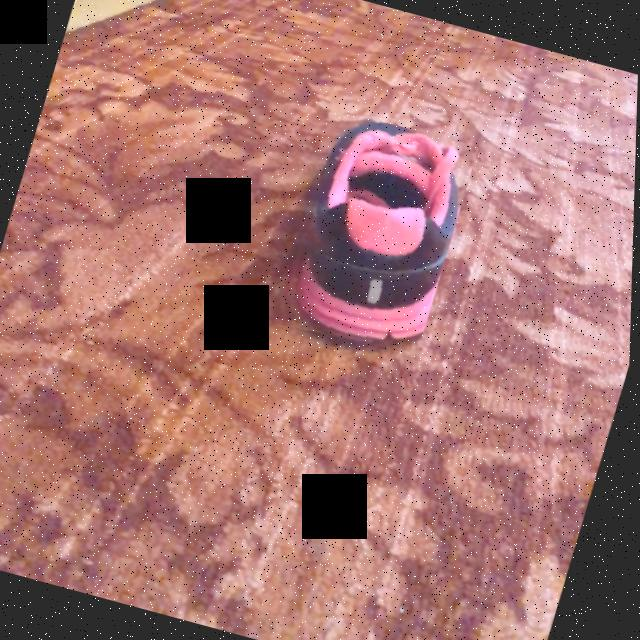shoe: (296, 121, 459, 344)
